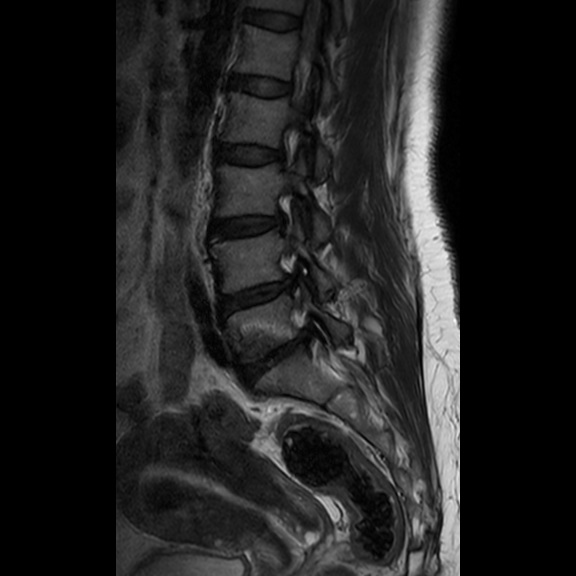LFS0: (260, 113, 312, 178)
